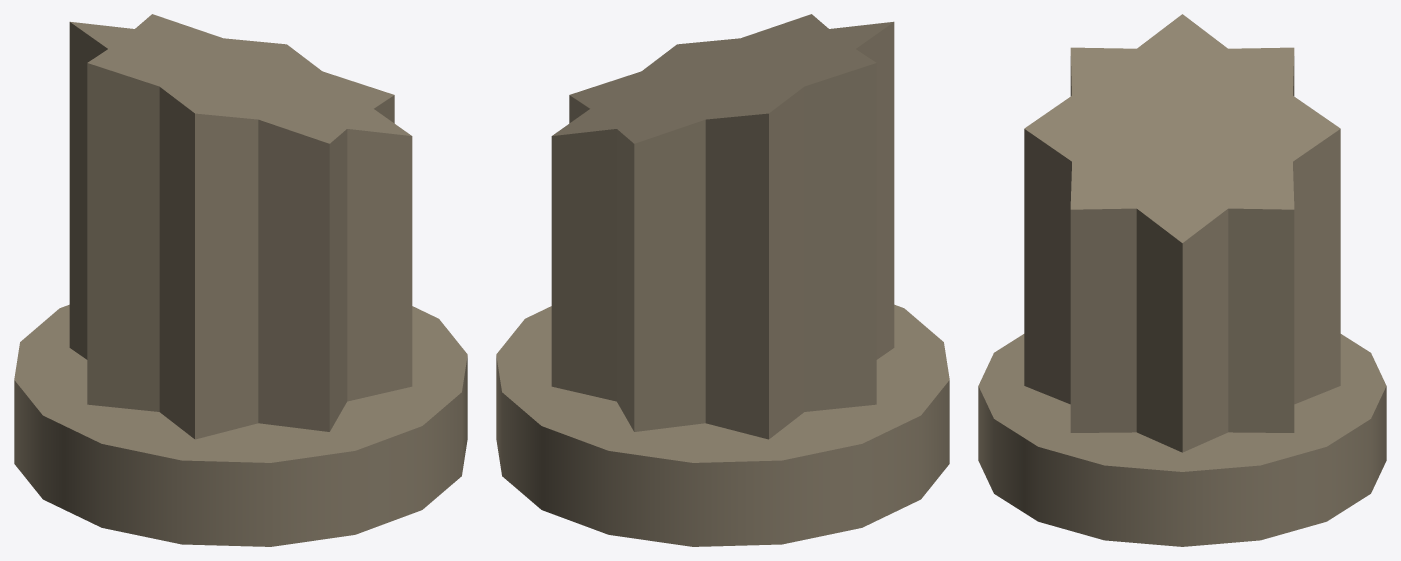
Rendered from Pillar_1.fbx.
The picture shows the model from 3 angles, left to right: view 1: azimuth 30°, elevation 25°; view 2: azimuth 150°, elevation 25°; view 3: azimuth 270°, elevation 25°; orthographic projection. The views are drawn at different scales.
Parts seen in each view (by area): view 1: Circle.002; view 2: Circle.002; view 3: Circle.002.
Part boxes in pixels (bbox=[...]): Circle.002: bbox=[14, 14, 467, 546]; Circle.002: bbox=[496, 14, 949, 546]; Circle.002: bbox=[978, 14, 1386, 546].
Bounding box in the file's own units: 105 × 108 × 105.
